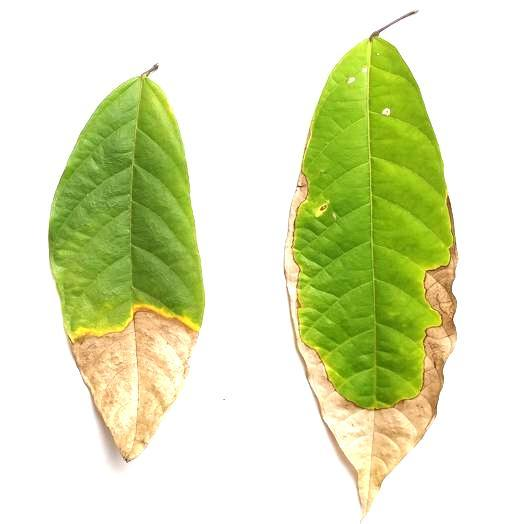Potassium: (286, 24, 456, 513), (49, 65, 204, 460)
